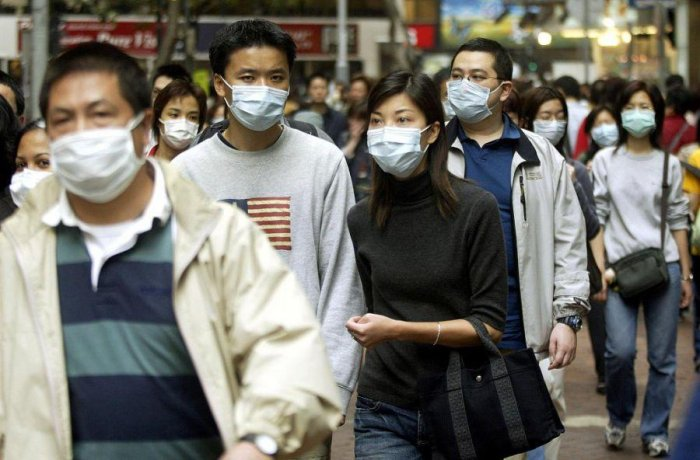mask: (365, 126, 426, 179), (229, 82, 290, 129), (446, 80, 494, 124)
